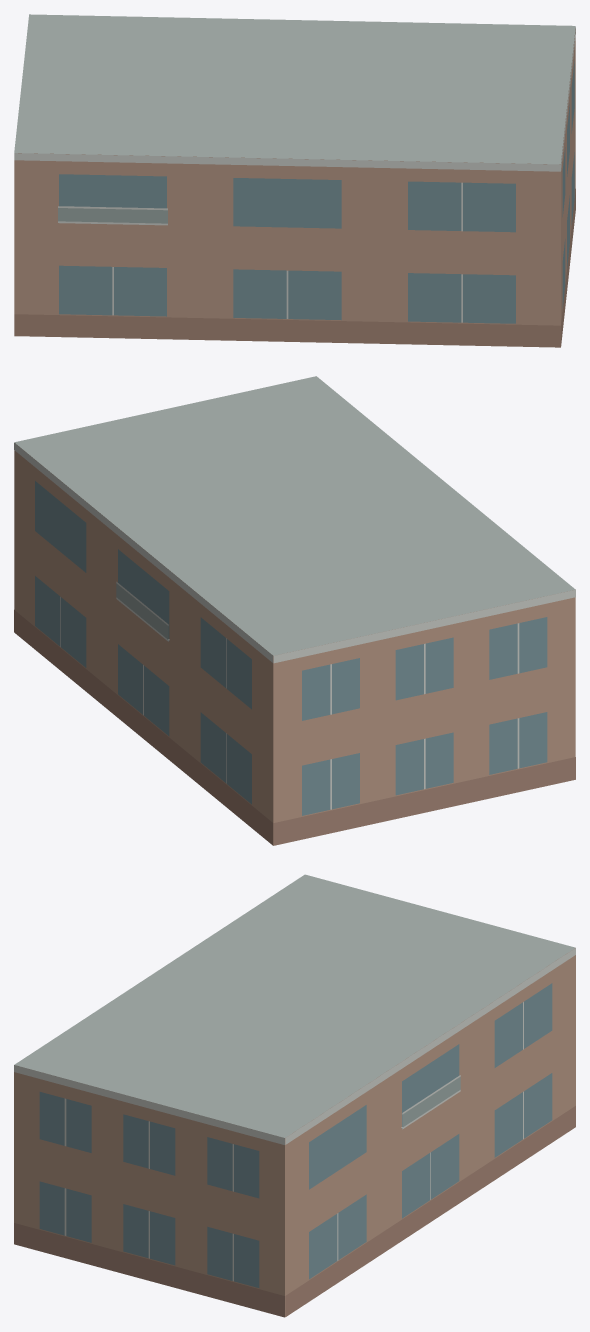
File: survey-upis-32826875.glb
The picture shows the model from 3 angles, top to bottom: view 1: azimuth 30°, elevation 25°; view 2: azimuth 150°, elevation 25°; view 3: azimuth 270°, elevation 25°; orthographic projection. The views are drawn at different scales.
Parts seen in each view (by area): view 1: survey-upis-32826875.tmp; view 2: survey-upis-32826875.tmp; view 3: survey-upis-32826875.tmp.
Boxes of the visible parts, x1,y1,x2,y2 form: survey-upis-32826875.tmp: (14, 14, 575, 347); survey-upis-32826875.tmp: (14, 376, 575, 845); survey-upis-32826875.tmp: (14, 874, 575, 1317).
Size of the model in its own units: 19.24 by 6.1 by 17.32.
